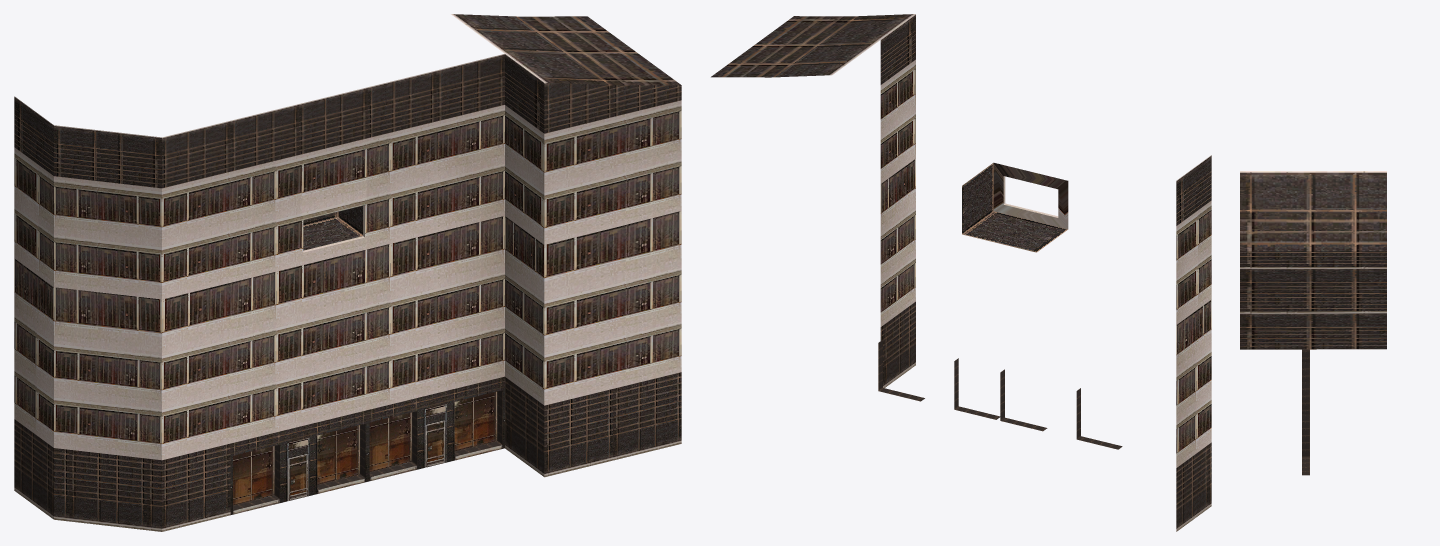
The model's file is M2Zone4_Building03.glb.
3 renders of one model, left to right at view 1: azimuth 30°, elevation 25°; view 2: azimuth 150°, elevation 25°; view 3: azimuth 270°, elevation 25°, orthographic. The views are drawn at different scales.
Parts seen in each view (by area): view 1: M2ZONE4_BUILDING03; view 2: M2ZONE4_BUILDING03; view 3: M2ZONE4_BUILDING03.
Part boxes in pixels (bbox=[...]): M2ZONE4_BUILDING03: bbox=[14, 14, 681, 531]; M2ZONE4_BUILDING03: bbox=[711, 14, 1211, 531]; M2ZONE4_BUILDING03: bbox=[1240, 171, 1386, 475].
Size of the model in its own units: 32 by 22 by 12.
4 materials, 4 textured.
